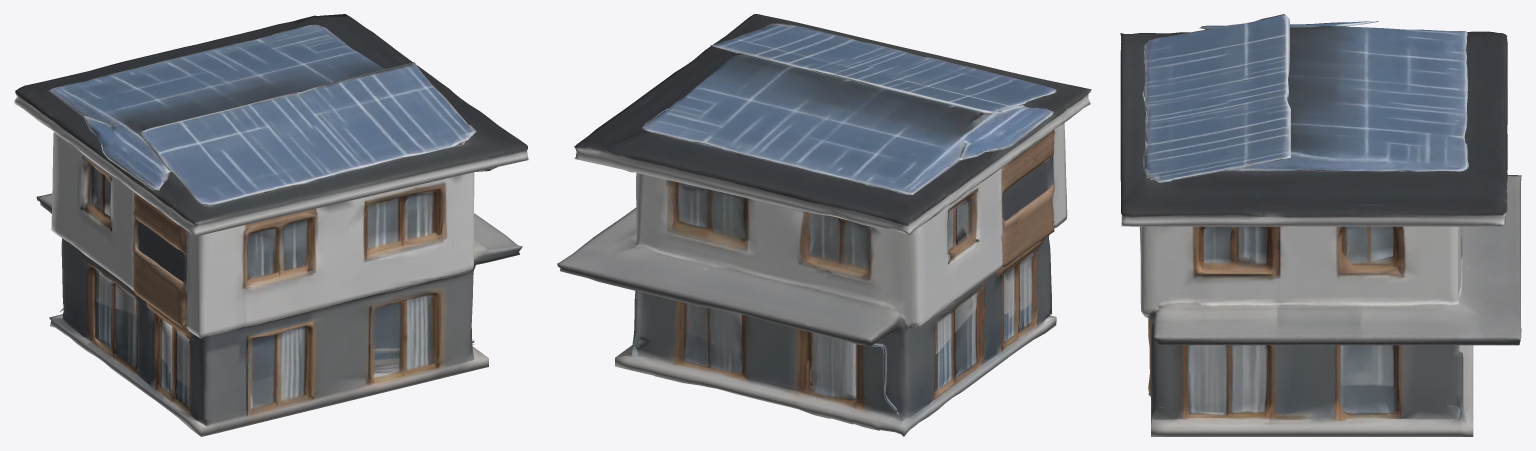
The model's file is h_modern.glb.
The picture shows the model from 3 angles, left to right: view 1: azimuth 30°, elevation 25°; view 2: azimuth 150°, elevation 25°; view 3: azimuth 270°, elevation 25°; orthographic projection. The views are drawn at different scales.
Parts seen in each view (by area): view 1: model; view 2: model; view 3: model.
Boxes of the visible parts, x1,y1,x2,y2 form: model: [14, 14, 528, 436]; model: [557, 14, 1091, 436]; model: [1120, 14, 1521, 436].
Bounding box in the file's own units: 1.89 × 1.34 × 1.77.
1 material, 1 textured.
